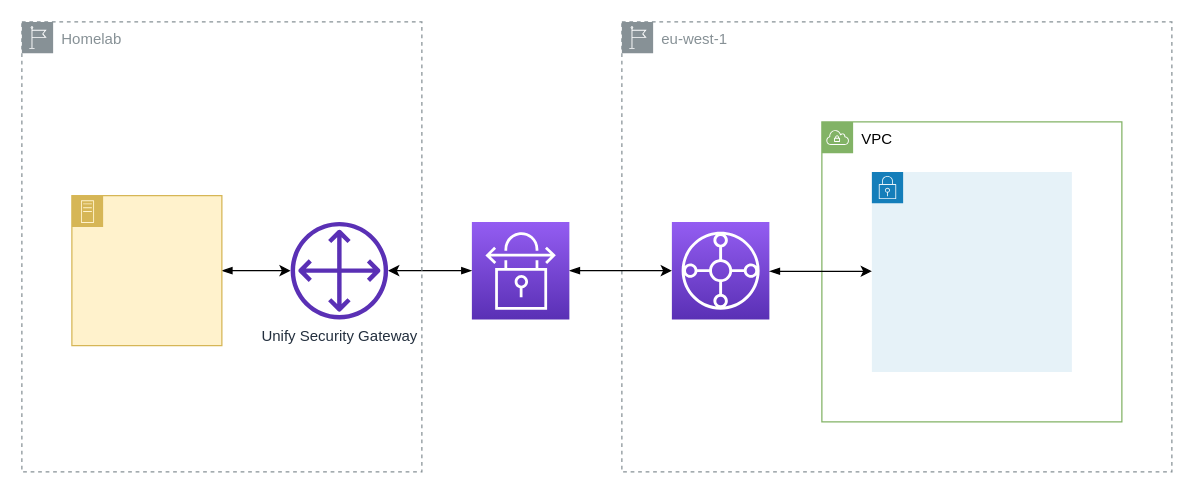
The diagram is 1194 pixels wide and 494 high, and some of its shapes have lost their labels. Here are the shapes that lost their labels. From the top down, the centre of each, then its label:
At [146,270]: "k3s/docker host".
At [971,271]: "Private subnet".
